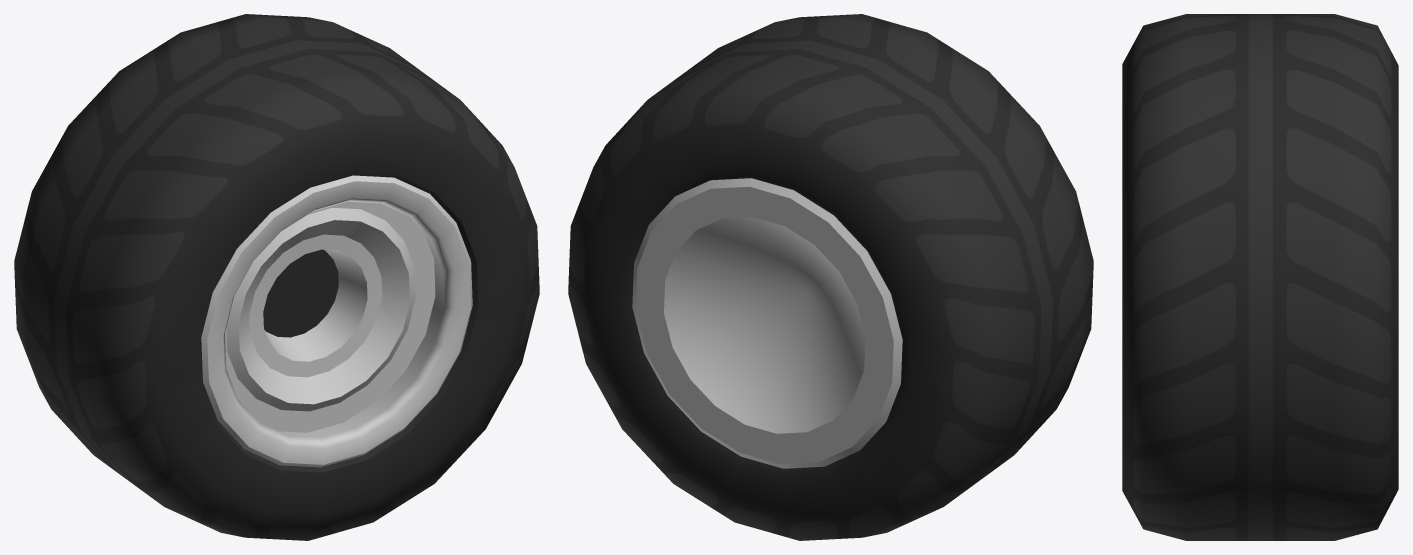
Rendered from Wheel_01.fbx.
The picture shows the model from 3 angles, left to right: view 1: azimuth 30°, elevation 25°; view 2: azimuth 150°, elevation 25°; view 3: azimuth 270°, elevation 25°; orthographic projection. The views are drawn at different scales.
Parts seen in each view (by area): view 1: Wheel_01; view 2: Wheel_01; view 3: Wheel_01.
Part boxes in pixels (left/top/right/bottom): Wheel_01: left=14, top=14, right=539, bottom=540; Wheel_01: left=568, top=14, right=1093, bottom=540; Wheel_01: left=1122, top=14, right=1398, bottom=540.
Size of the model in its own units: 95 by 50 by 95.
